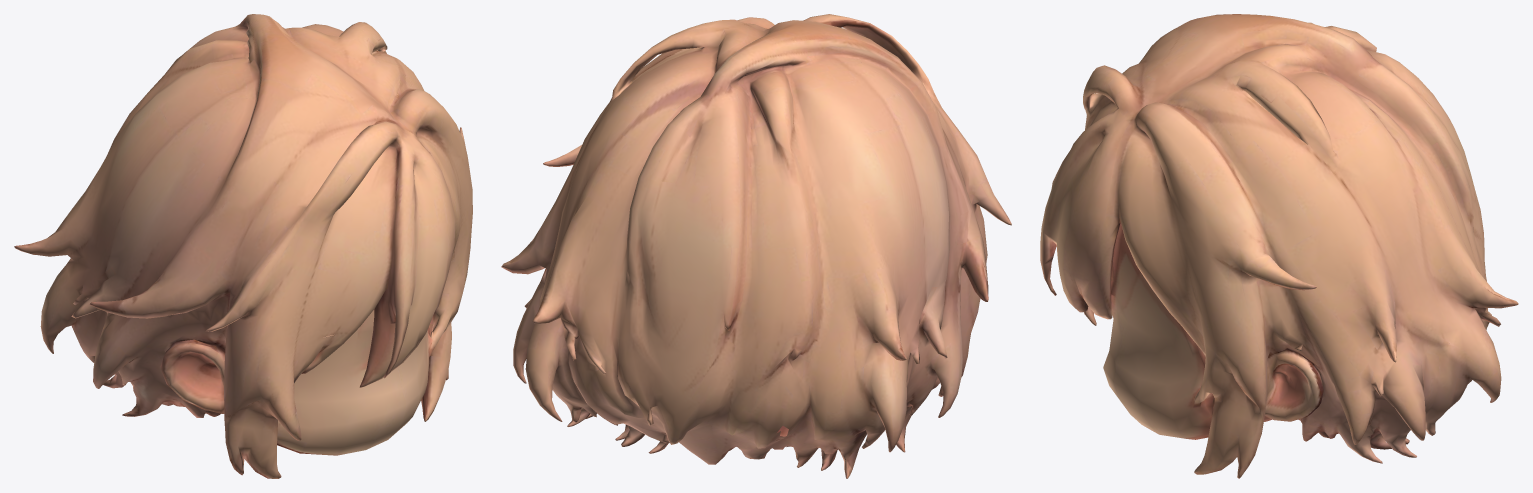
The picture shows the model from 3 angles, left to right: view 1: azimuth 30°, elevation 25°; view 2: azimuth 150°, elevation 25°; view 3: azimuth 270°, elevation 25°; orthographic projection. The views are drawn at different scales.
Visible parts, largest first — view 1: Face; view 2: Face; view 3: Face.
Boxes of the visible parts, left/top/right/bottom form: Face: left=14, top=14, right=472, bottom=478; Face: left=501, top=14, right=1011, bottom=478; Face: left=1040, top=14, right=1518, bottom=478.
Bounding box in the file's own units: 0.5242 × 0.4824 × 0.5252.
1 material, 1 textured.
